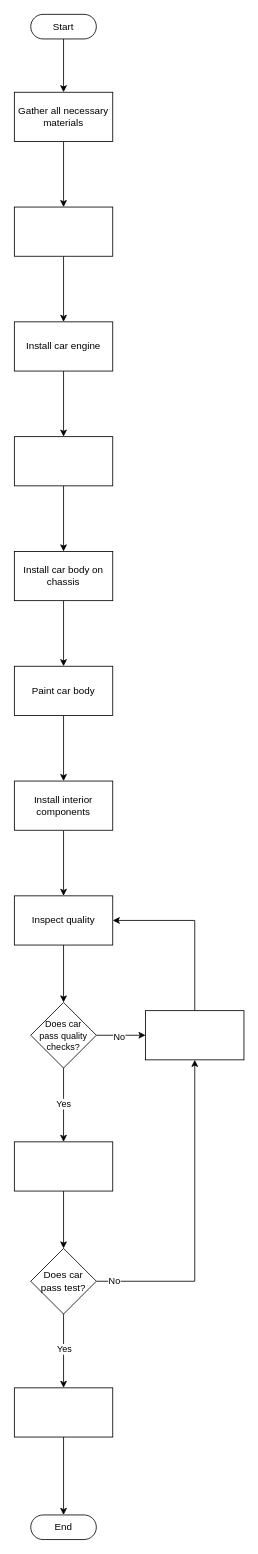
Image size: 258x1554. Some labels were removed from this diagram. Each missing label, with the centre of its shape:
"Assemble car chassis" goes at (x=63, y=231).
"Install transmission" goes at (x=63, y=461).
"Perform necessary adjustments" goes at (x=194, y=1035).
"Proceed to sell and deliver" goes at (x=63, y=1412).
"Test Drive" goes at (x=63, y=1166).
